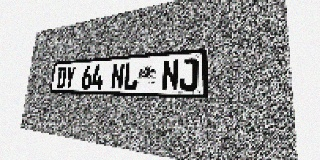4: (91, 64, 104, 89)
6: (81, 65, 93, 89)
D: (56, 67, 67, 89)
J: (179, 58, 198, 91)
L: (123, 62, 138, 90)
N: (161, 59, 179, 91), (110, 63, 125, 90)
Y: (64, 66, 76, 89)
